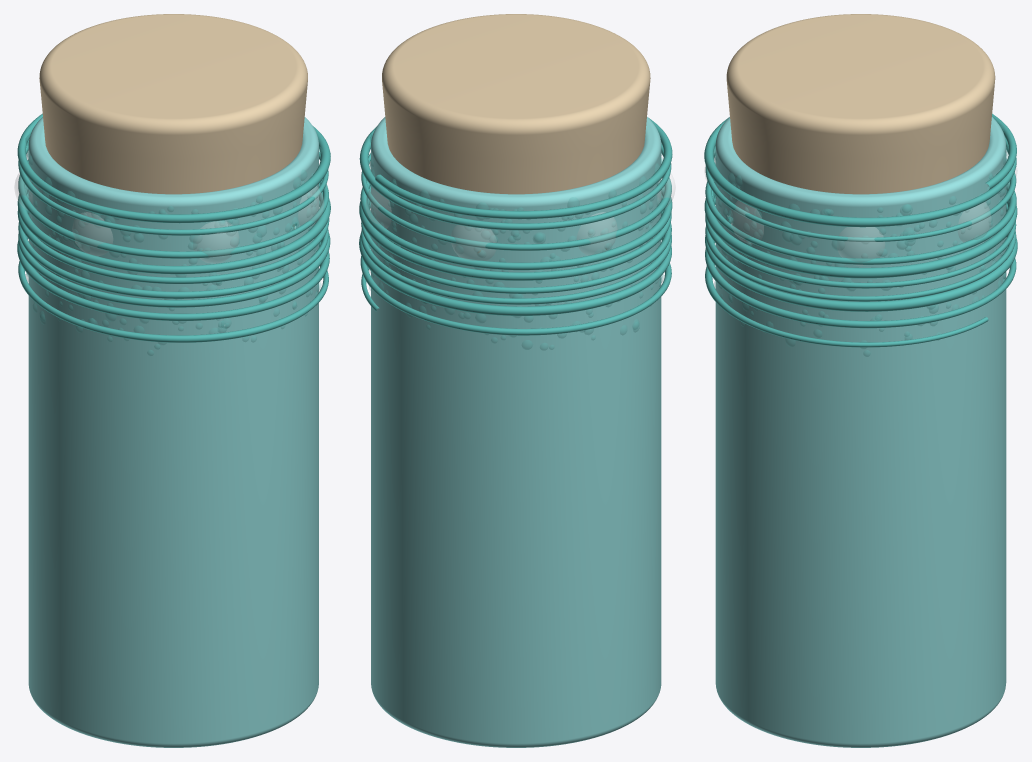
File: jar_teal_silver.glb
3 renders of one model, left to right at view 1: azimuth 30°, elevation 25°; view 2: azimuth 150°, elevation 25°; view 3: azimuth 270°, elevation 25°, orthographic.
Visible parts, largest first — view 1: body, cork, lines, frit, marbles; view 2: body, cork, lines, frit, marbles; view 3: body, cork, lines, frit, marbles.
Part boxes in pixels (x1,y1,x2,y2): body: [28, 117, 318, 747]; cork: [39, 14, 307, 250]; lines: [17, 113, 330, 342]; frit: [25, 134, 322, 355]; marbles: [14, 173, 324, 263]; body: [371, 117, 661, 747]; cork: [382, 14, 650, 252]; lines: [359, 117, 672, 335]; frit: [369, 134, 663, 350]; marbles: [365, 174, 675, 260]; body: [715, 117, 1006, 747]; cork: [726, 14, 995, 194]; lines: [704, 113, 1017, 347]; frit: [713, 126, 1008, 356]; marbles: [704, 151, 1017, 265].
Size of the model in its own units: 0.0479 by 0.104 by 0.0475.
